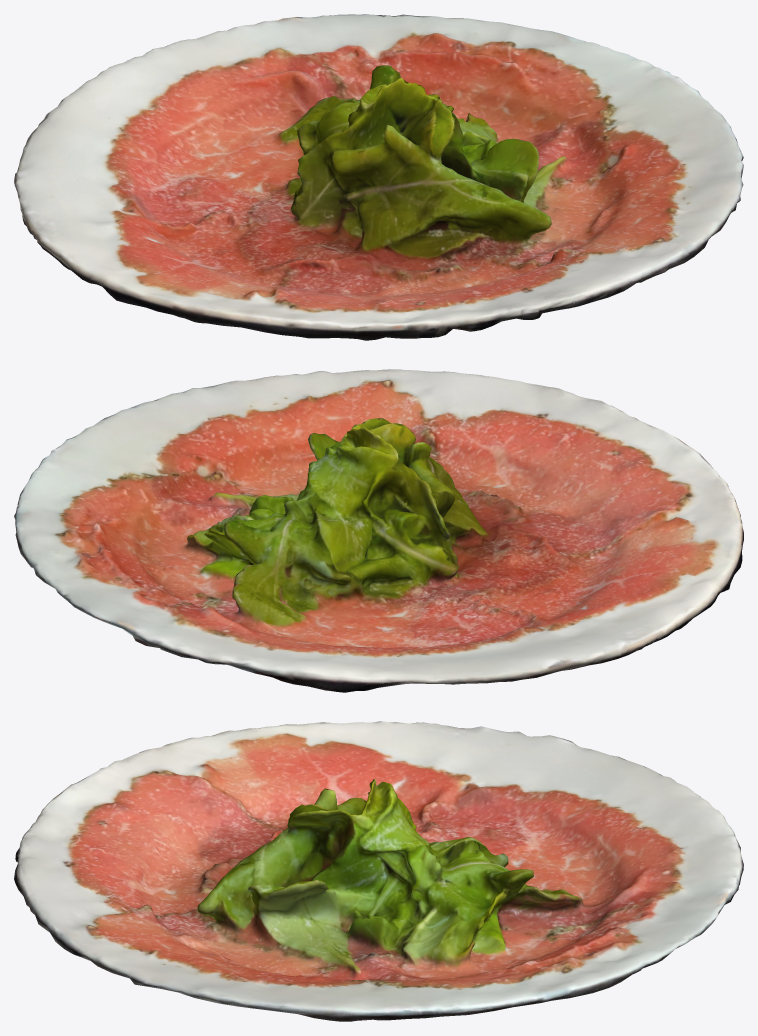
Rendered from carpaccio-de-boeuf.ar.glb.
3 views of the same model, one above another, from view 1: azimuth 30°, elevation 25°; view 2: azimuth 150°, elevation 25°; view 3: azimuth 270°, elevation 25° (orthographic).
Visible parts, largest first — view 1: ObjectCapture; view 2: ObjectCapture; view 3: ObjectCapture.
Boxes of the visible parts, box(x1,y1,x2,y2) form: ObjectCapture: box(14, 14, 743, 340); ObjectCapture: box(14, 369, 743, 692); ObjectCapture: box(14, 721, 743, 1021).
Bounding box in the file's own units: 0.3068 × 0.0641 × 0.3077.
1 material, 1 textured.
